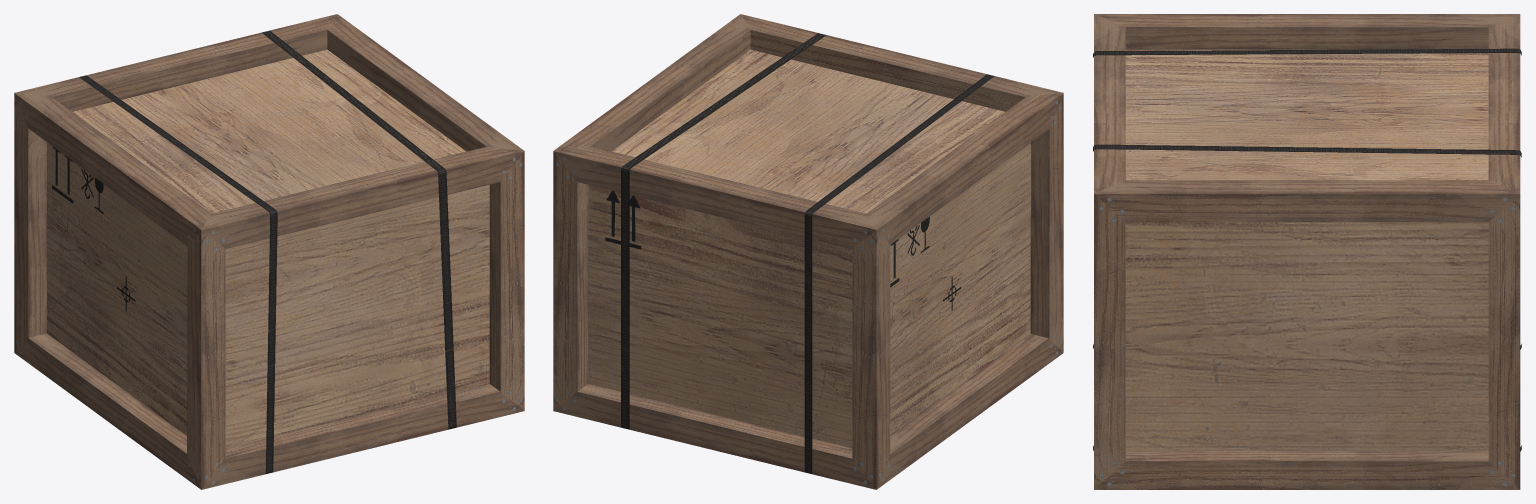
Rendered from Atlas_Wood_Cardboard_Cratelarge.fbx.
3 renders of one model, left to right at view 1: azimuth 30°, elevation 25°; view 2: azimuth 150°, elevation 25°; view 3: azimuth 270°, elevation 25°, orthographic. The views are drawn at different scales.
Parts seen in each view (by area): view 1: Atlas_WoodCardboard_Cratelarge_LOD0; view 2: Atlas_WoodCardboard_Cratelarge_LOD0; view 3: Atlas_WoodCardboard_Cratelarge_LOD0.
Part boxes in pixels (x1,y1,x2,y2): Atlas_WoodCardboard_Cratelarge_LOD0: (14, 14, 524, 489); Atlas_WoodCardboard_Cratelarge_LOD0: (553, 14, 1063, 489); Atlas_WoodCardboard_Cratelarge_LOD0: (1093, 14, 1521, 489).
Size of what is drawn, in the model's own units: 111 by 85.34 by 111.
